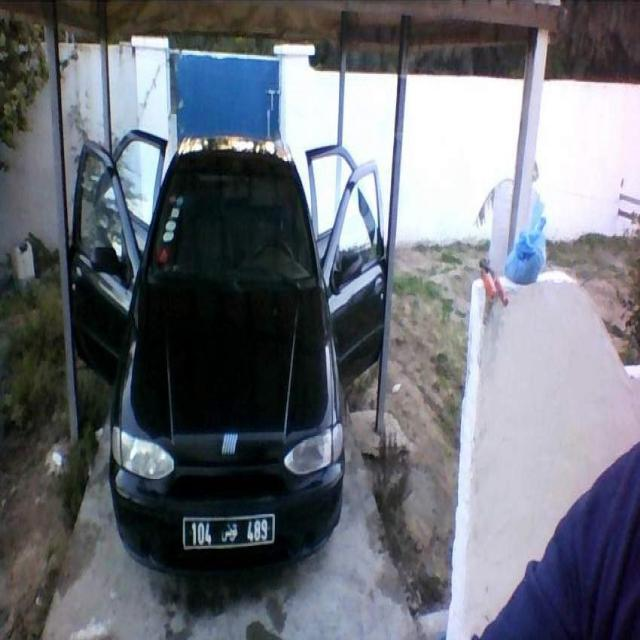licence plate: (185, 517, 272, 546)
